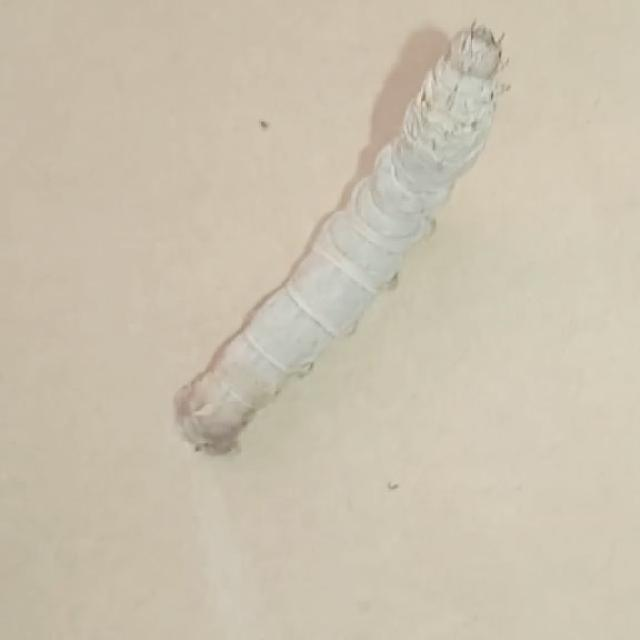Grasserie: (162, 18, 521, 476)
